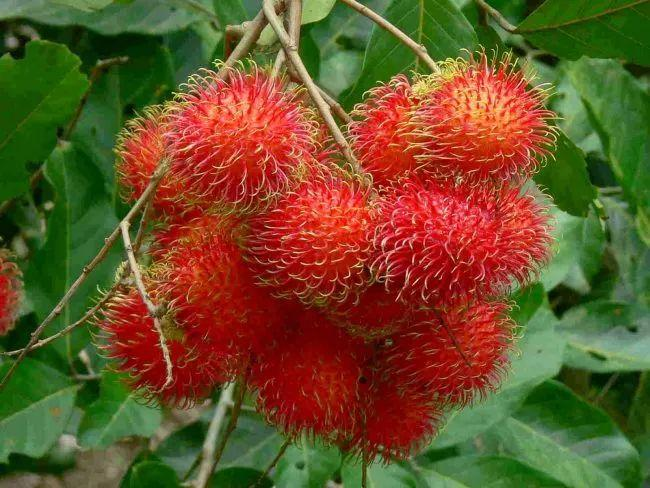chom_chom: (157, 56, 319, 211), (405, 47, 563, 182), (373, 179, 511, 309)
